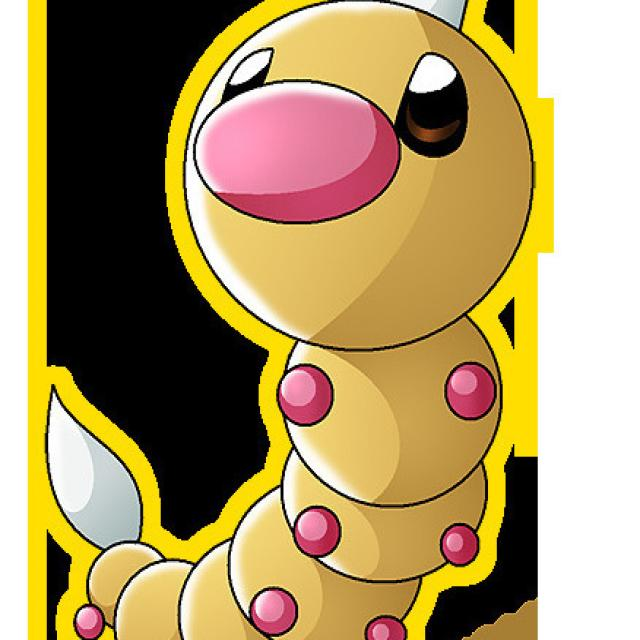Weedle: (45, 0, 527, 640)
